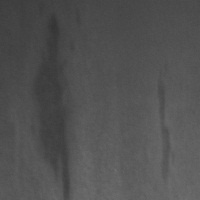inclusion: (29, 11, 73, 199), (154, 64, 180, 185)
